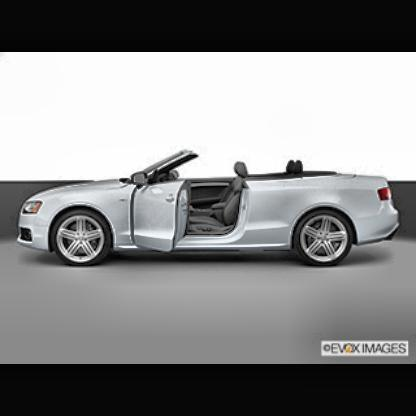Audi S5 Convertible 2012: (20, 152, 402, 271)
